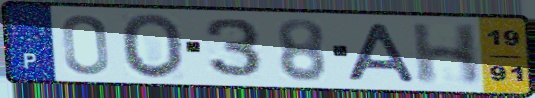0: (59, 12, 113, 77)
3: (200, 17, 266, 81)
8: (274, 17, 330, 84)
A: (343, 21, 420, 84)
H: (408, 22, 483, 87)
O: (117, 12, 187, 81)
